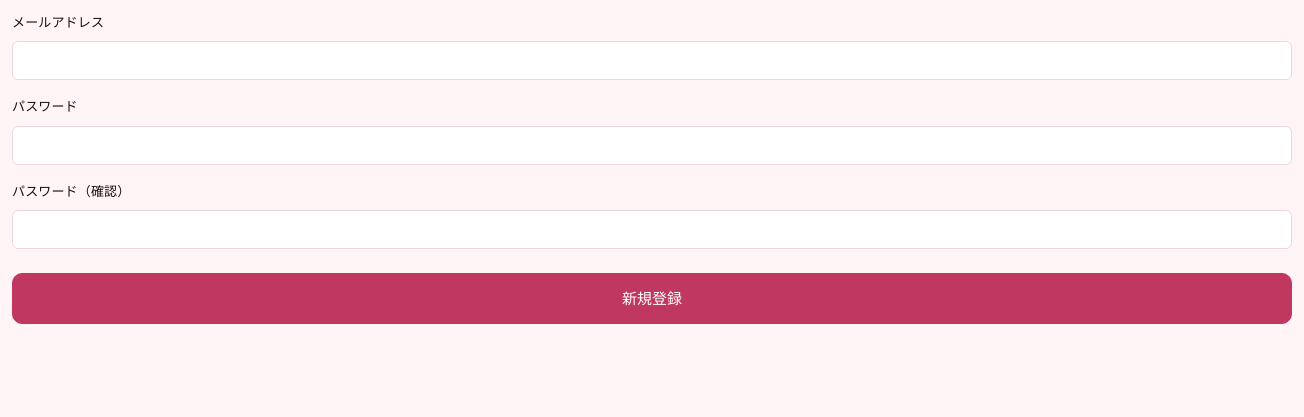
Test: RegisterForm › ネットワークエラー時にフォールバックエラーメッセージを表示する
Type "new@example.com" into the field labelled "メールアドレス". click: (652, 61)
box: [12,41,1292,80]
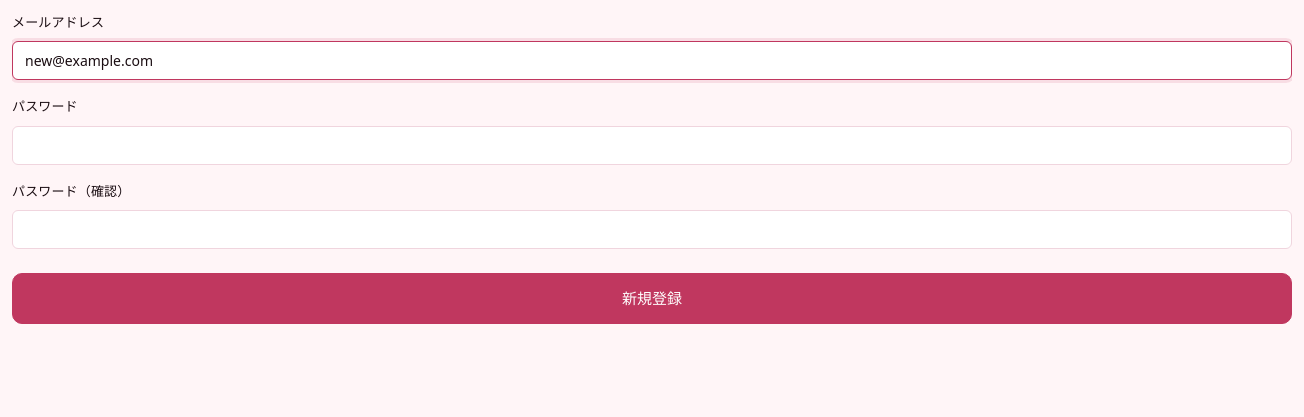
Type "password123" into the password field labelled "パスワード". click: (652, 145)
box: [12,126,1292,165]
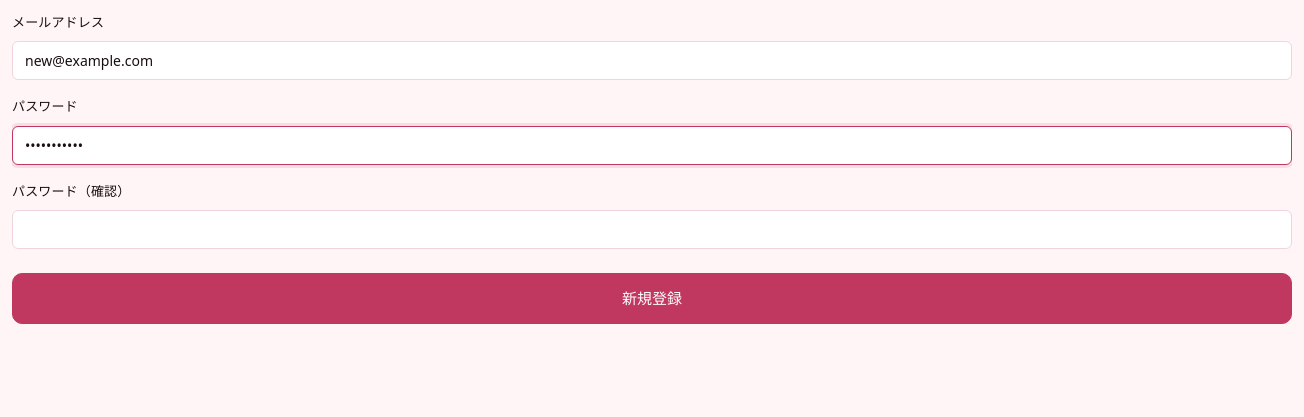
Type "password123" into the password field labelled "パスワード（確認）". click: (652, 230)
box: [12,210,1292,249]
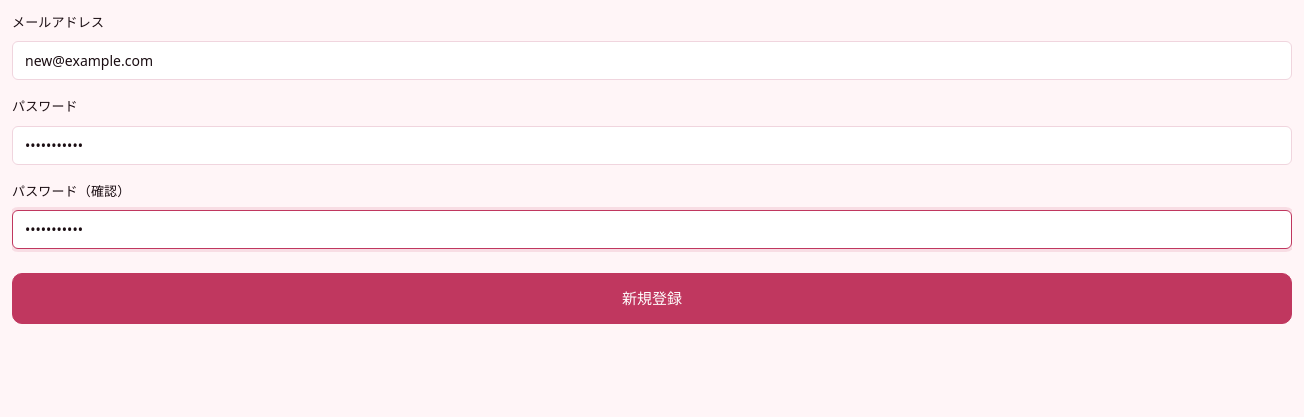
Click the button "新規登録". click: (652, 299)
box: [12,273,1292,324]
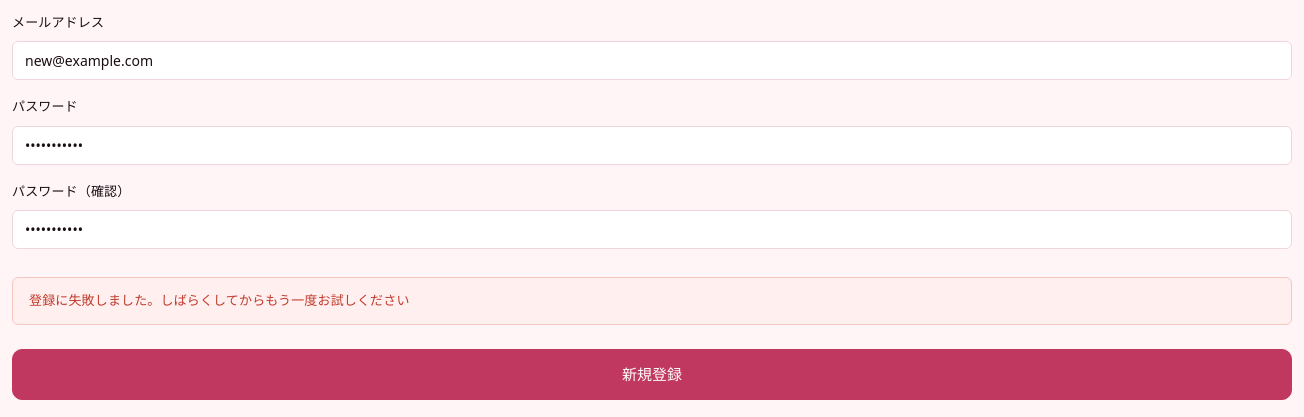
Result: the text "登録に失敗しました。しばらくしてからもう一度お試しください" is shown at [12,277,1292,325]
